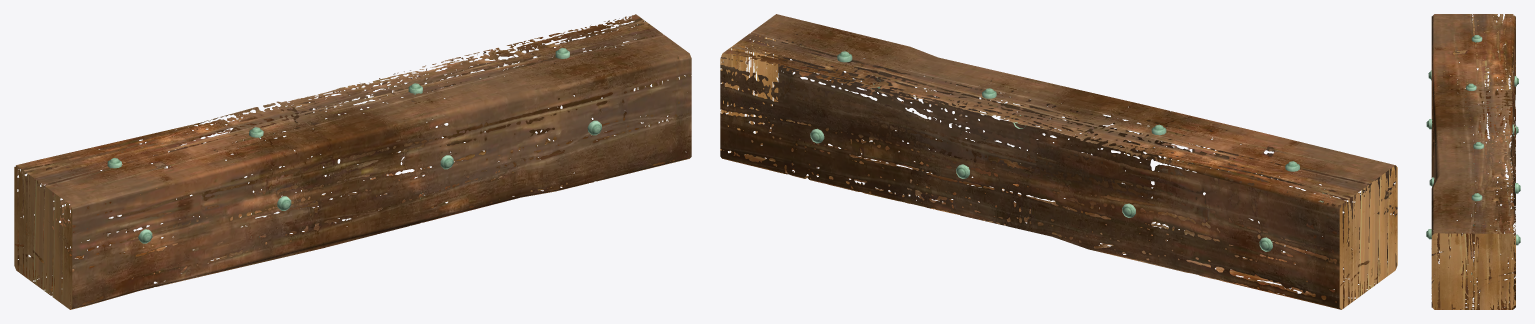
3 renders of one model, left to right at view 1: azimuth 30°, elevation 25°; view 2: azimuth 150°, elevation 25°; view 3: azimuth 270°, elevation 25°, orthographic. The views are drawn at different scales.
Visible parts, largest first — view 1: SM_BB_T4_Beam_Thick_Large_Horizontal_LOD0; view 2: SM_BB_T4_Beam_Thick_Large_Horizontal_LOD0; view 3: SM_BB_T4_Beam_Thick_Large_Horizontal_LOD0.
Boxes of the visible parts, x1,y1,x2,y2 form: SM_BB_T4_Beam_Thick_Large_Horizontal_LOD0: (14, 14, 691, 309); SM_BB_T4_Beam_Thick_Large_Horizontal_LOD0: (720, 14, 1397, 309); SM_BB_T4_Beam_Thick_Large_Horizontal_LOD0: (1426, 14, 1520, 309).
Size of the model in its own units: 3 by 0.5523 by 0.5464.
Materials: 2 (2 with a texture image).
